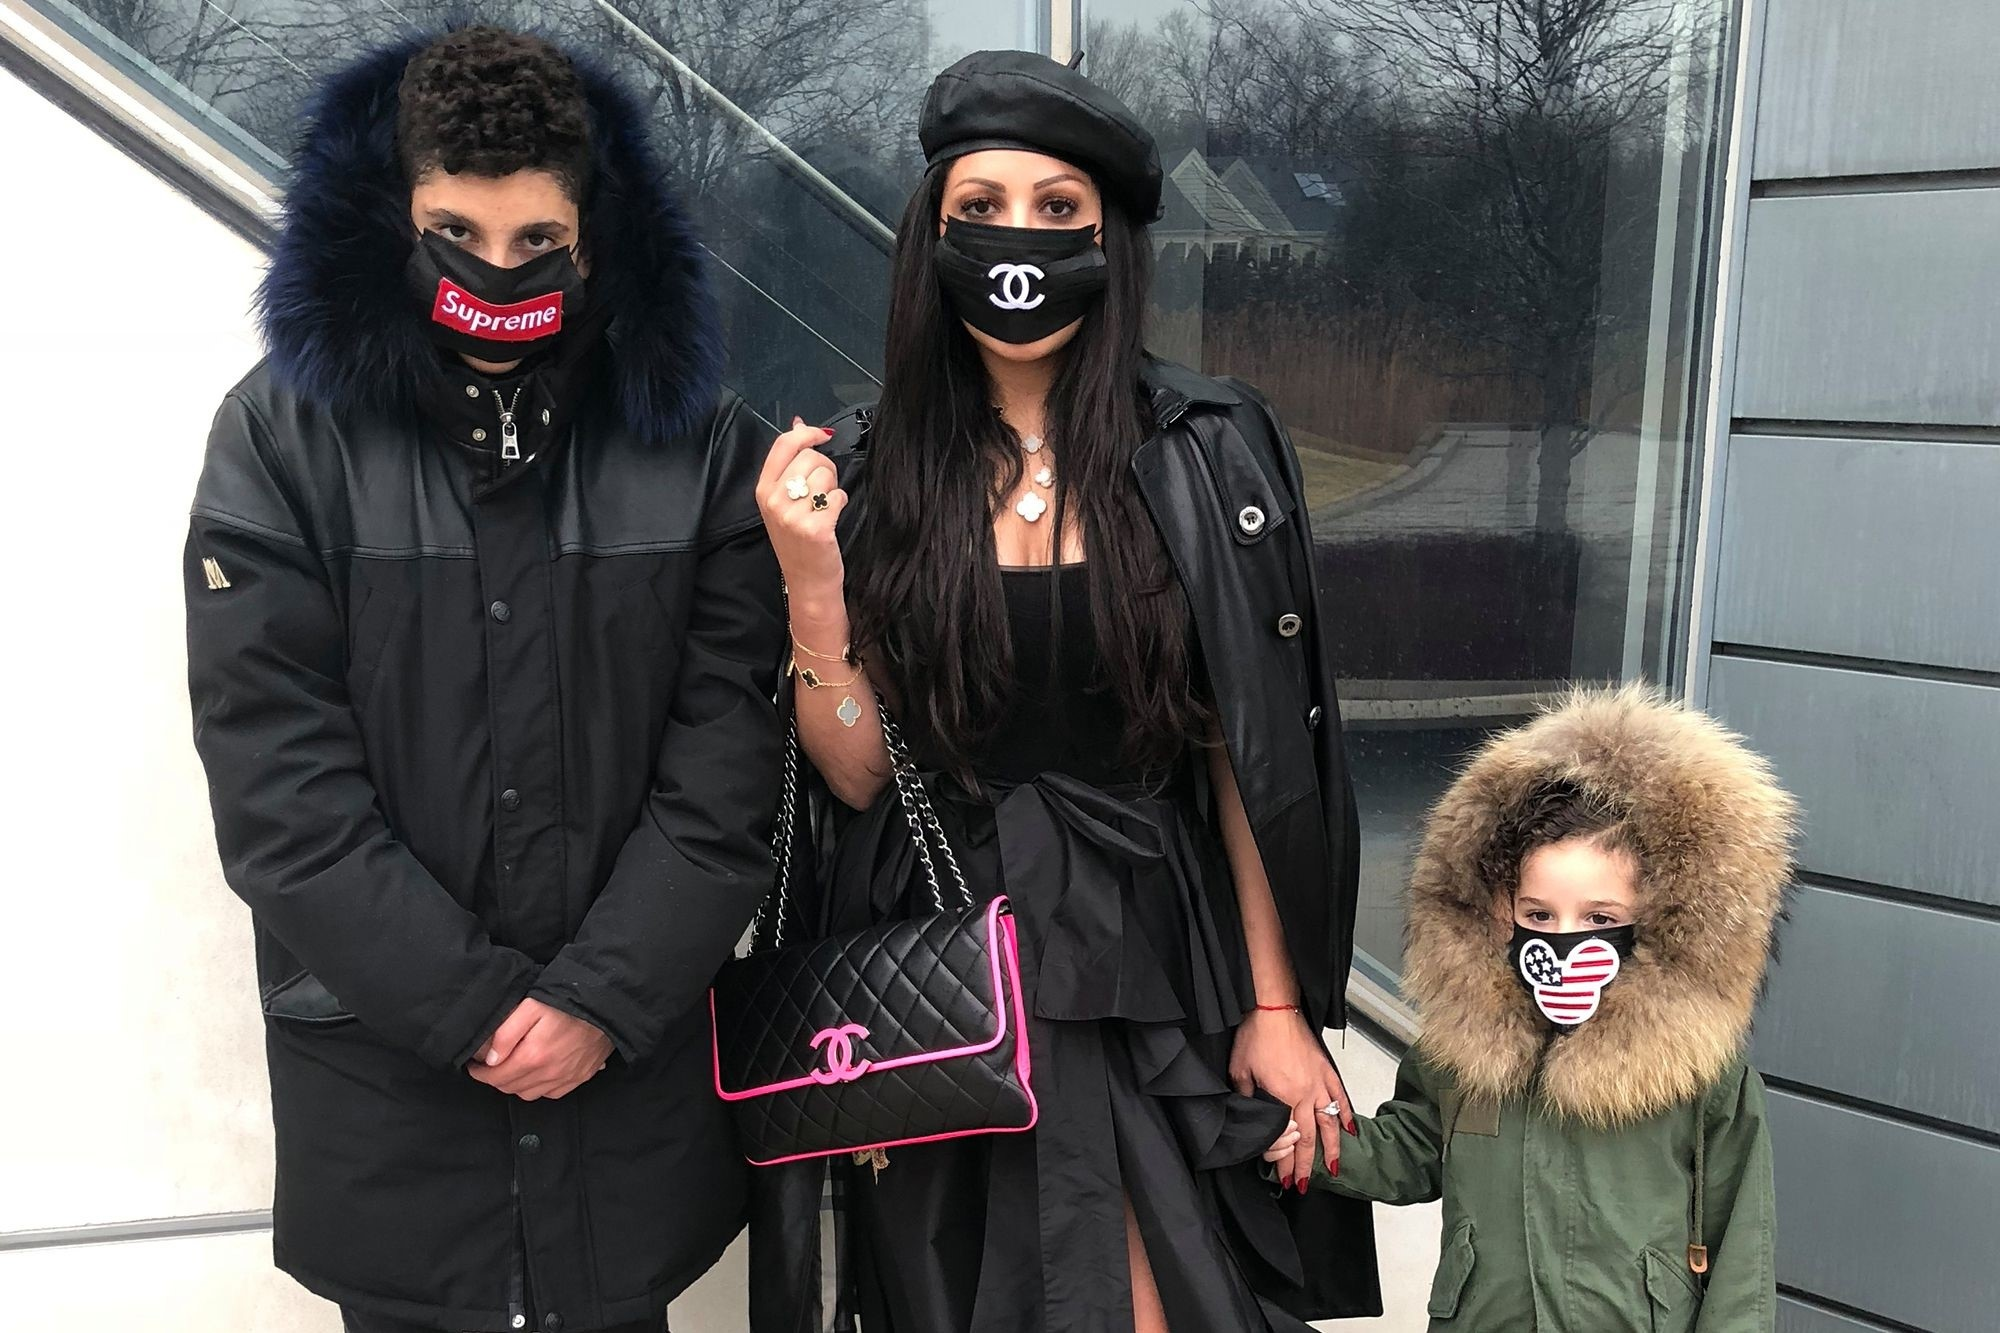face_with_mask: (913, 132, 1142, 397), (377, 137, 614, 392), (1485, 801, 1673, 1056)
